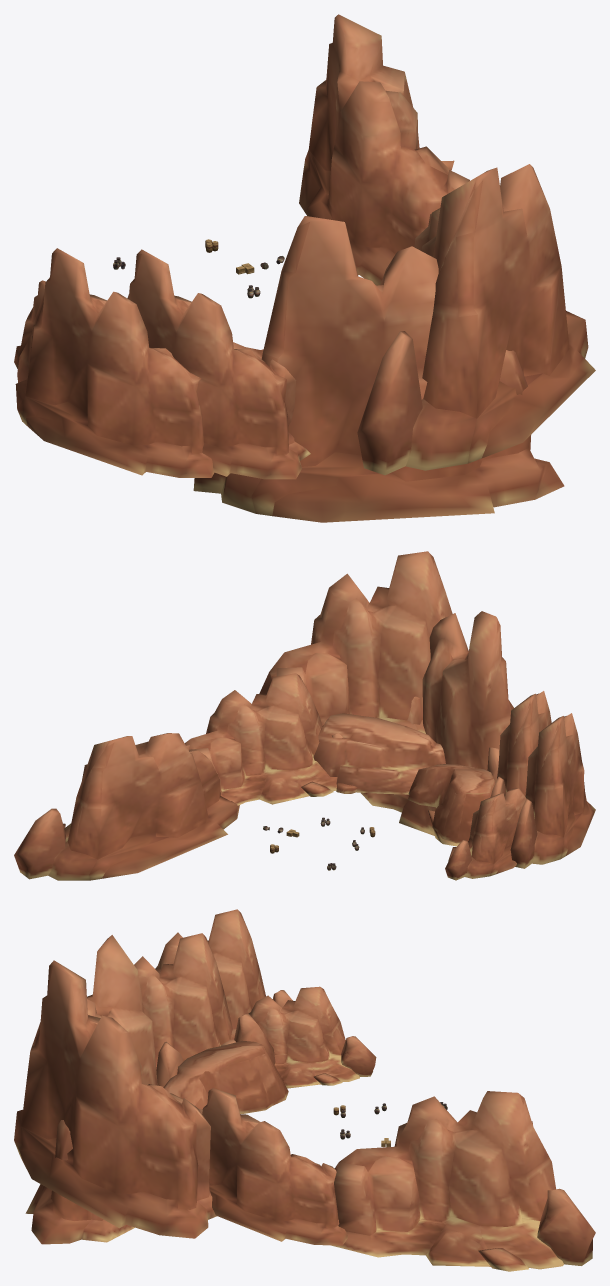
The model's file is Area_04_1_y.FBX.
The picture shows the model from 3 angles, top to bottom: view 1: azimuth 30°, elevation 25°; view 2: azimuth 150°, elevation 25°; view 3: azimuth 270°, elevation 25°; orthographic projection. The views are drawn at different scales.
Visible parts, largest first — view 1: Area_04_1_y; view 2: Area_04_1_y; view 3: Area_04_1_y.
Boxes of the visible parts, x1=… form: Area_04_1_y: x1=14, y1=14, x2=595, y2=522; Area_04_1_y: x1=14, y1=551, x2=595, y2=880; Area_04_1_y: x1=14, y1=909, x2=595, y2=1271.
Bounding box in the file's own units: 85.38 × 45.16 × 93.94.
1 material, 1 textured.
